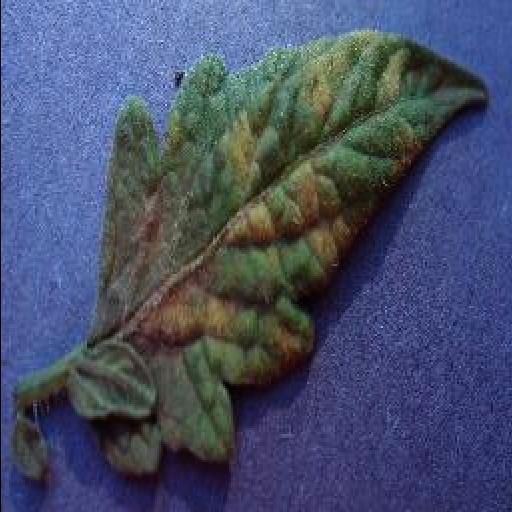disease_tomato: (68, 28, 492, 476)
